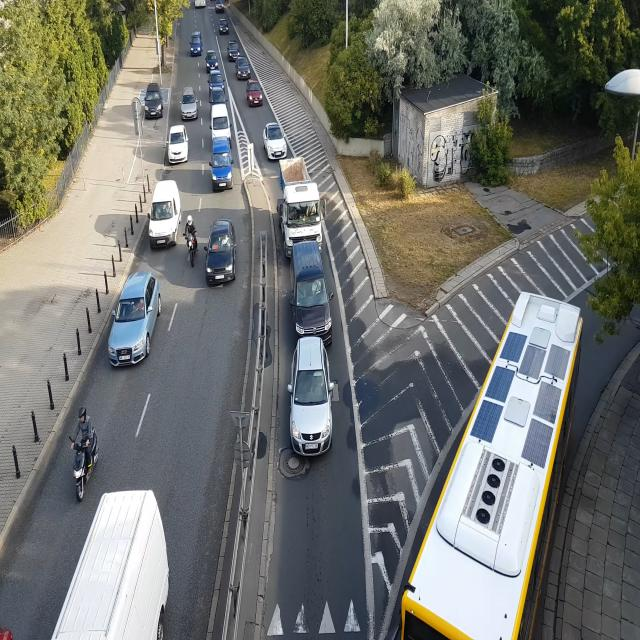bus: (400, 258, 601, 640)
car: (53, 487, 177, 640), (288, 340, 336, 464), (106, 279, 158, 371), (290, 244, 334, 338), (147, 179, 180, 247), (206, 219, 236, 285), (165, 124, 190, 168), (212, 134, 232, 185), (264, 121, 289, 159), (143, 85, 165, 120), (182, 86, 198, 120), (210, 106, 230, 132), (246, 80, 263, 108), (236, 56, 252, 80), (209, 86, 226, 105), (208, 68, 224, 88), (193, 24, 204, 50), (227, 40, 241, 60), (207, 50, 218, 68), (218, 16, 228, 32), (213, 0, 222, 8)
motorcycle: (69, 406, 98, 488), (184, 213, 199, 270)
truck: (277, 162, 325, 255)
